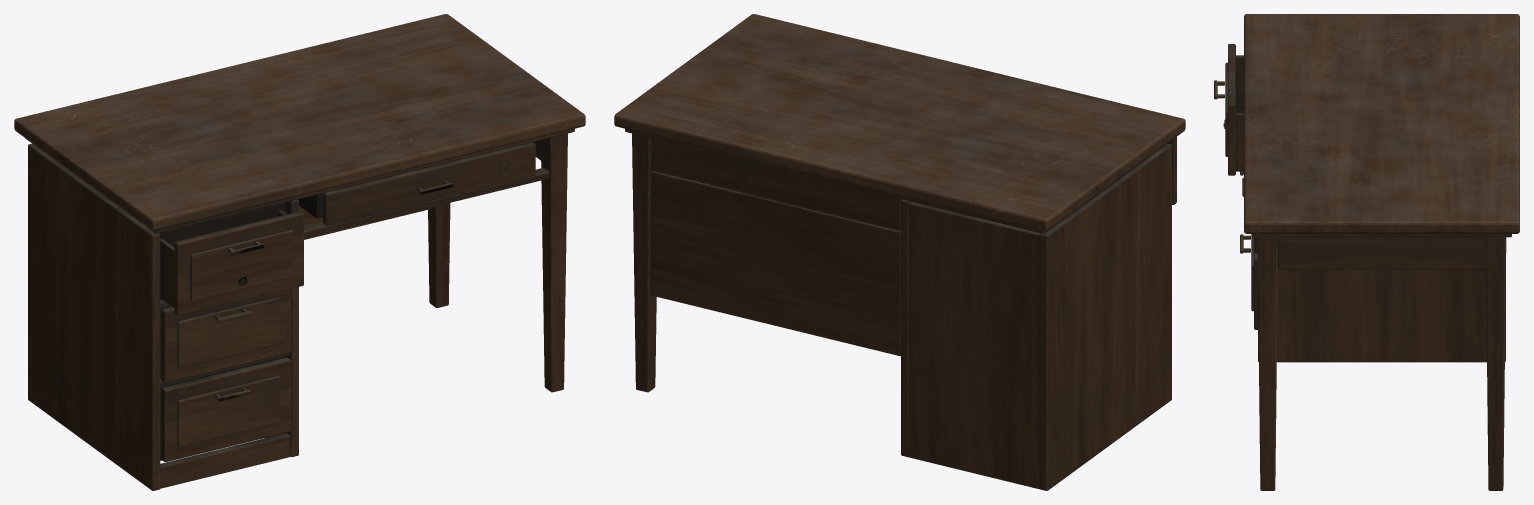
File: Desk.fbx
3 renders of one model, left to right at view 1: azimuth 30°, elevation 25°; view 2: azimuth 150°, elevation 25°; view 3: azimuth 270°, elevation 25°, orthographic.
Parts seen in each view (by area): view 1: Desk_Mesh; view 2: Desk_Mesh; view 3: Desk_Mesh.
Part boxes in pixels (<box>): Desk_Mesh: <box>14,14,585,490</box>; Desk_Mesh: <box>614,14,1185,490</box>; Desk_Mesh: <box>1214,14,1519,490</box>.
Bounding box in the file's own units: 124 × 76 × 76.45.
1 material, 1 textured.
